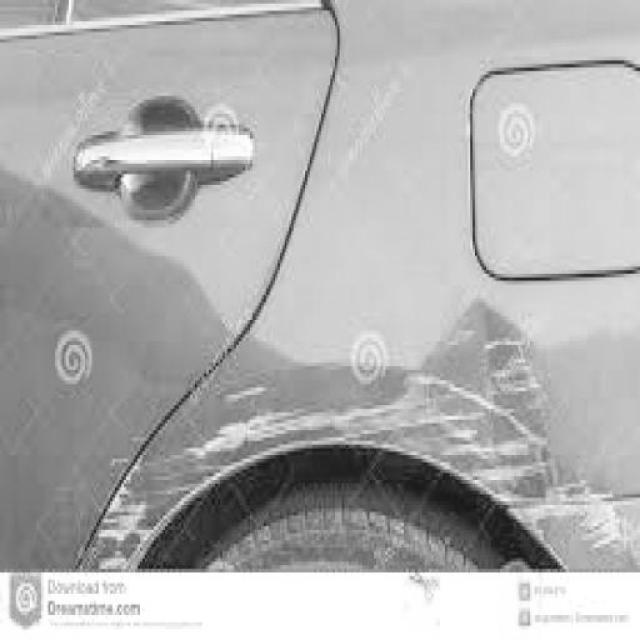car damage: (80, 334, 638, 572)
